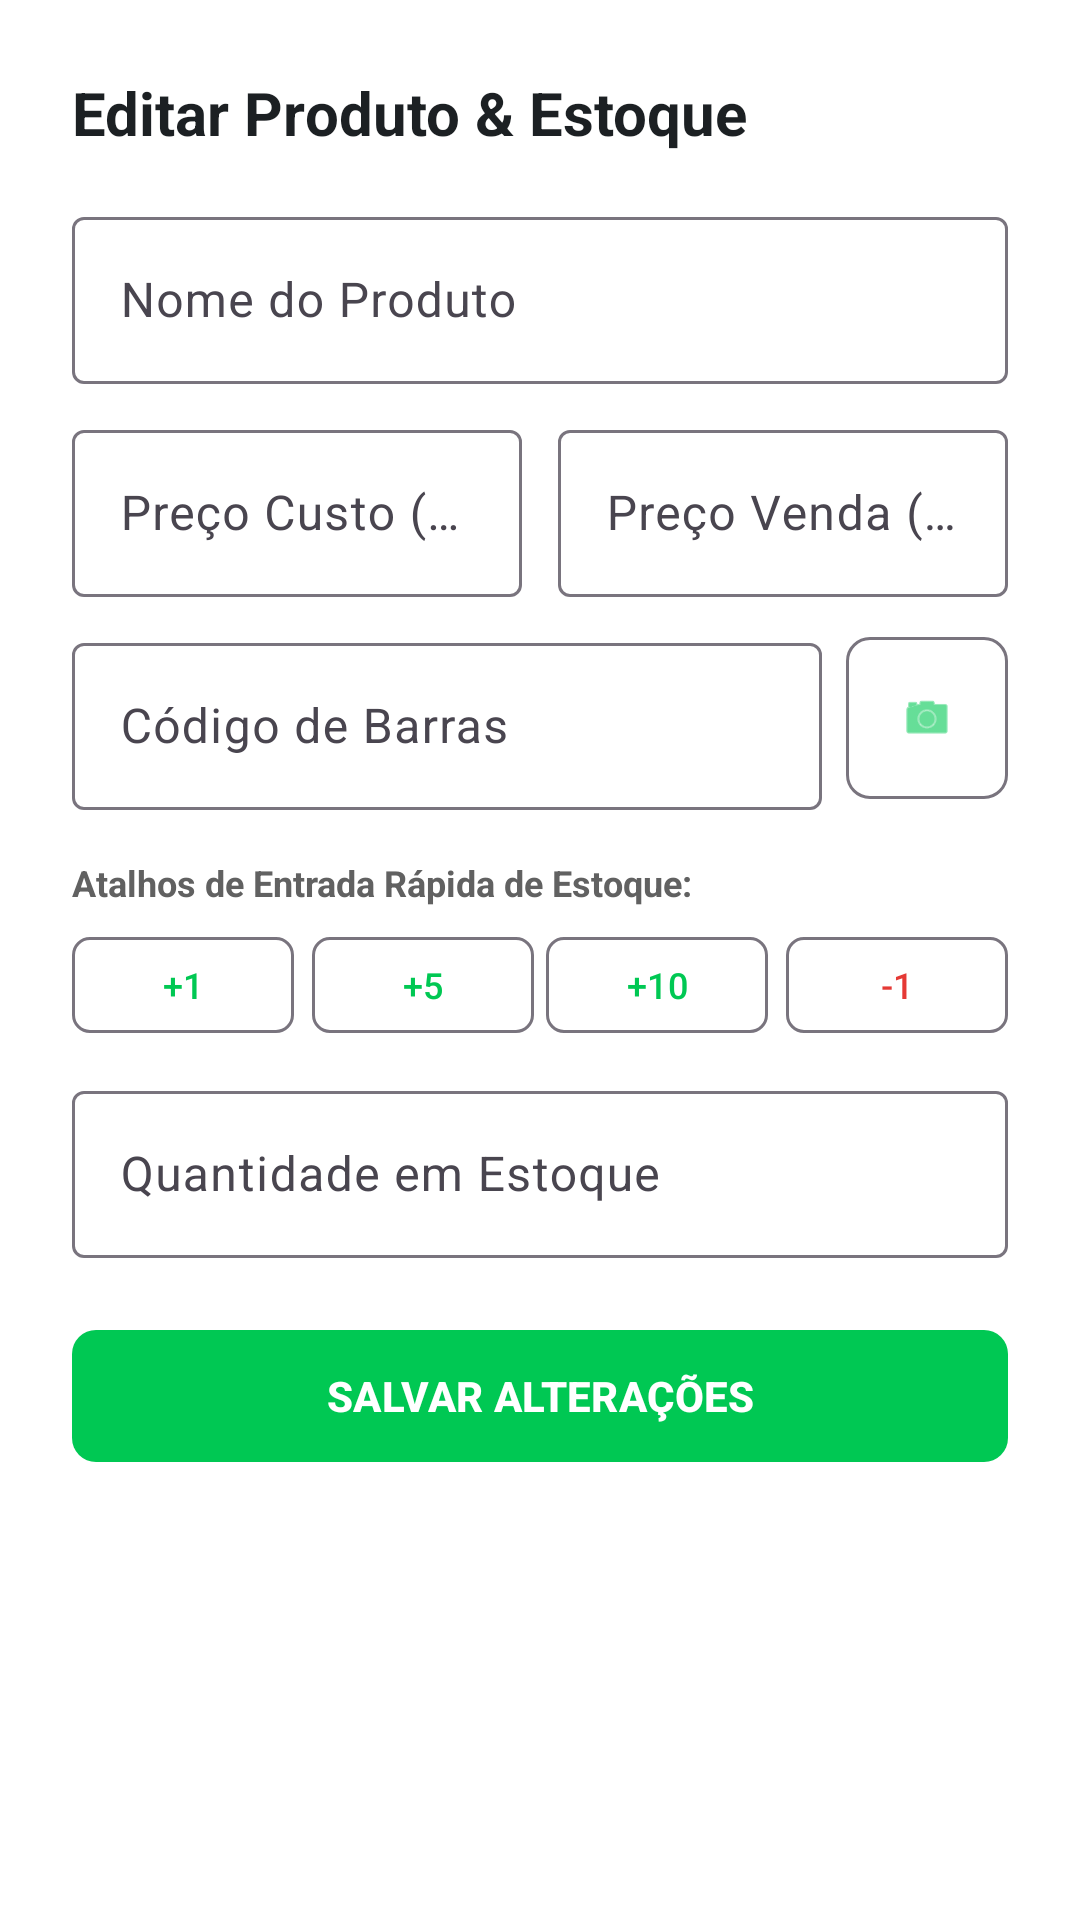

Icon bounding boxes for this 1080*1920 phone screenshot, format (x1, y1, x2, y2):
camera: (846, 637, 1008, 799)
